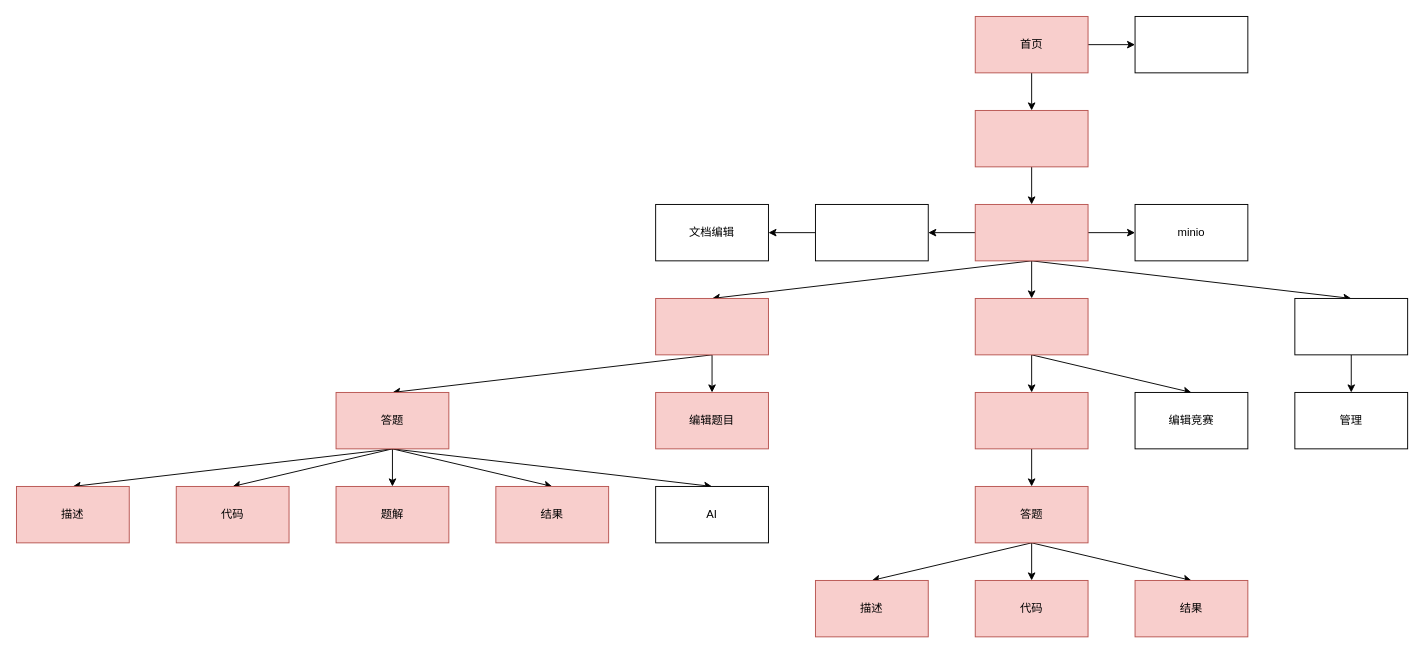
This 1424x653 diagram has some shape labels left out. Each missing label, with the centre of its shape:
主页: point (1031, 232)
文档: point (871, 232)
注册: point (1191, 44)
用户: point (1351, 326)
登录: point (1031, 138)
竞赛/考核 列表: point (1031, 326)
详情: point (1031, 420)
题目列表（默认）: point (711, 326)
